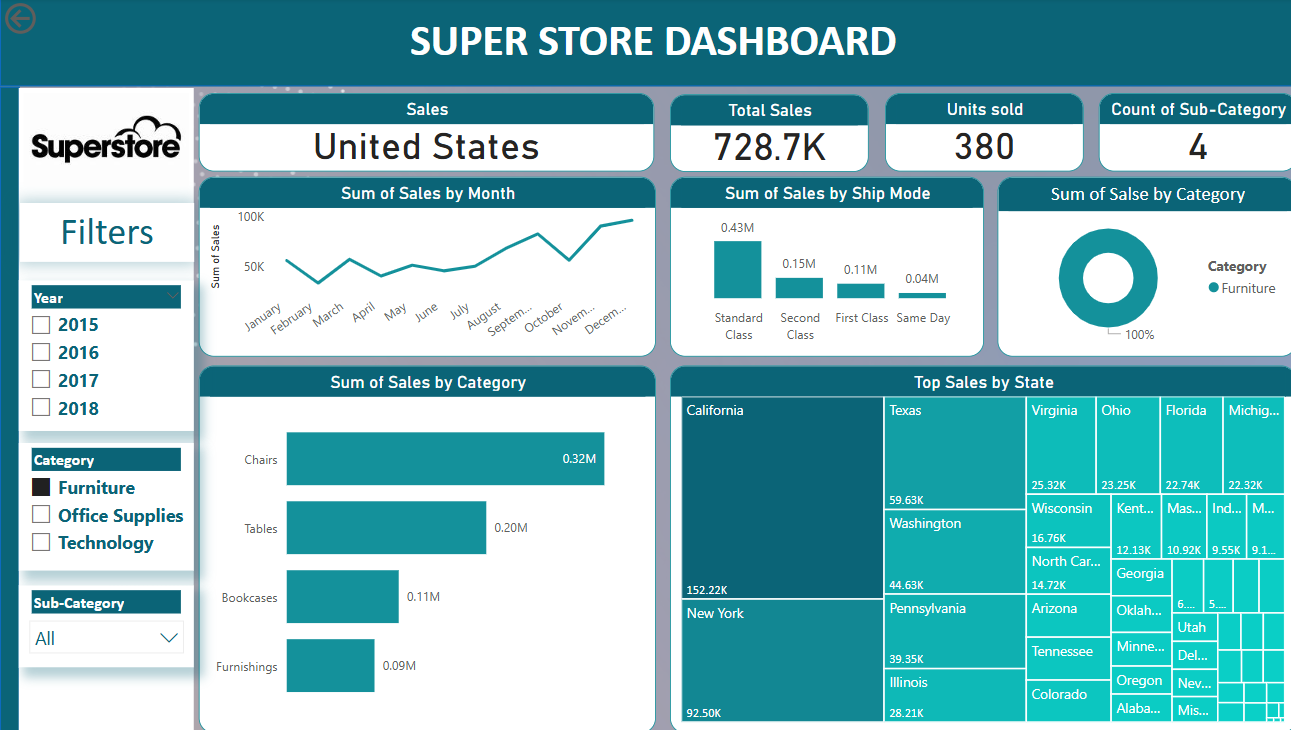

Layout of this report page (visuals, bound fields, positions):
{"tool":"powerbi","page":{"name":"sales","canvas":[1280,720],"ordinal":0},"visuals":[{"type":"shape","box":[0,0,1280.3,86.4],"z":0},{"type":"shape","box":[0,86.4,19.2,634],"z":1000},{"type":"shape","box":[18.8,87.5,171.2,632.5],"z":2000},{"type":"textbox","box":[10,10,1258.6,67.1],"z":3000},{"type":"card","title":"Total Sales","fields":{"Values":["Sum(Superstore_Cleaned.Sales)"]},"box":[655.7,94.3,194.3,75.7],"z":4000},{"type":"textbox","box":[20,200,170,57.5],"z":5000},{"type":"lineChart","fields":{"Category":["Superstore_Cleaned.Order Date.Variation.Date Hierarchy.Year","Superstore_Cleaned.Order Date.Variation.Date Hierarchy.Quarter","Superstore_Cleaned.Order Date.Variation.Date Hierarchy.Month","Superstore_Cleaned.Order Date.Variation.Date Hierarchy.Day"],"Y":["Sum(Superstore_Cleaned.Sales)"]},"box":[194.9,174.3,447.3,175.6],"z":6000},{"type":"clusteredBarChart","fields":{"Category":["Superstore_Cleaned.Sub-Category"],"Y":["Sum(Superstore_Cleaned.Sales)"]},"box":[195,360,447.5,360],"z":7000},{"type":"clusteredColumnChart","fields":{"Category":["Superstore_Cleaned.Ship Mode"],"Y":["Sum(Superstore_Cleaned.Sales)"]},"box":[655.7,174.3,307.1,175.7],"z":8000},{"type":"actionButton","box":[0,0,100,40],"z":9000},{"type":"treemap","fields":{"Values":["Sum(Superstore_Cleaned.Sales)"],"Group":["Superstore_Cleaned.State"]},"box":[655.7,360,612.9,360],"z":10000},{"type":"donutChart","title":"Sum of Salse by Category","fields":{"Category":["Superstore_Cleaned.Category"],"Y":["Sum(Superstore_Cleaned.Sales)"]},"box":[975.7,174.3,292.9,175.7],"z":11000},{"type":"image","box":[18.8,87.5,171.2,100],"z":12000},{"type":"slicer","fields":{"Values":["Superstore_Cleaned.Order Date.Variation.Date Hierarchy.Year"]},"box":[18.8,276.2,171.2,147.5],"z":13000},{"type":"slicer","fields":{"Values":["Superstore_Cleaned.Category"]},"box":[18.8,435,171.2,125],"z":14000},{"type":"slicer","fields":{"Values":["Superstore_Cleaned.Sub-Category"]},"box":[18.8,575,171.2,80],"z":15000},{"type":"card","title":"Sales","fields":{"Values":["Min(Superstore_Cleaned.Country)"]},"box":[194.3,92.9,445.7,77.1],"z":16000},{"type":"card","title":"Count of Sub-Category","fields":{"Values":["Count(Superstore_Cleaned.Sub-Category)"]},"box":[1074.3,92.9,194.3,77.1],"z":17000},{"type":"card","title":"Units sold","fields":{"Values":["Count(Superstore_Cleaned.Product Name)"]},"box":[865.7,92.9,194.3,77.1],"z":18000}]}

Visuals, with their boxes in screenshot pixels (x1, y1, x2, y2), scaled from the page's 1280x720 canvas onto the 1291x730 screenshot:
shape: rect(0, 0, 1290, 88)
shape: rect(0, 88, 19, 729)
shape: rect(19, 89, 192, 729)
textbox: rect(10, 10, 1280, 78)
"Total Sales" card: rect(661, 96, 857, 172)
textbox: rect(20, 203, 192, 261)
lineChart - Superstore_Cleaned.Order Date.Variation.Date Hierarchy.Year x Superstore_Cleaned.Order Date.Variation.Date Hierarchy.Quarter: rect(197, 177, 648, 355)
clusteredBarChart - Superstore_Cleaned.Sub-Category x Sum(Superstore_Cleaned.Sales): rect(197, 365, 648, 729)
clusteredColumnChart - Superstore_Cleaned.Ship Mode x Sum(Superstore_Cleaned.Sales): rect(661, 177, 971, 355)
actionButton: rect(0, 0, 101, 41)
treemap - Sum(Superstore_Cleaned.Sales) x Superstore_Cleaned.State: rect(661, 365, 1280, 729)
"Sum of Salse by Category" donutChart: rect(984, 177, 1280, 355)
image: rect(19, 89, 192, 190)
slicer - Superstore_Cleaned.Order Date.Variation.Date Hierarchy.Year: rect(19, 280, 192, 430)
slicer - Superstore_Cleaned.Category: rect(19, 441, 192, 568)
slicer - Superstore_Cleaned.Sub-Category: rect(19, 583, 192, 664)
"Sales" card: rect(196, 94, 646, 172)
"Count of Sub-Category" card: rect(1084, 94, 1280, 172)
"Units sold" card: rect(873, 94, 1069, 172)
